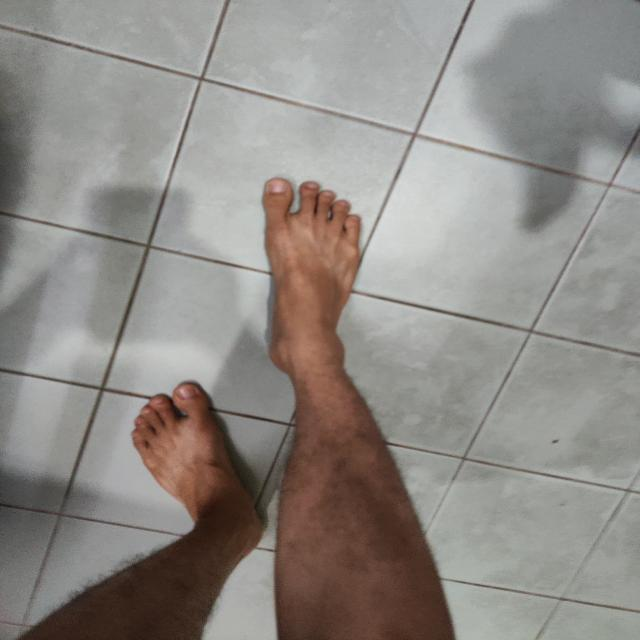No_Shoes: (65, 374, 289, 550), (249, 165, 394, 404)
